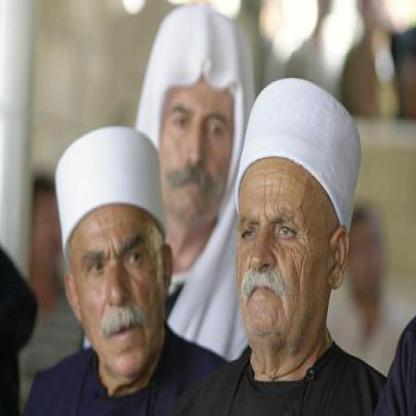face: (232, 113, 334, 347), (74, 161, 166, 377), (159, 38, 239, 225)
